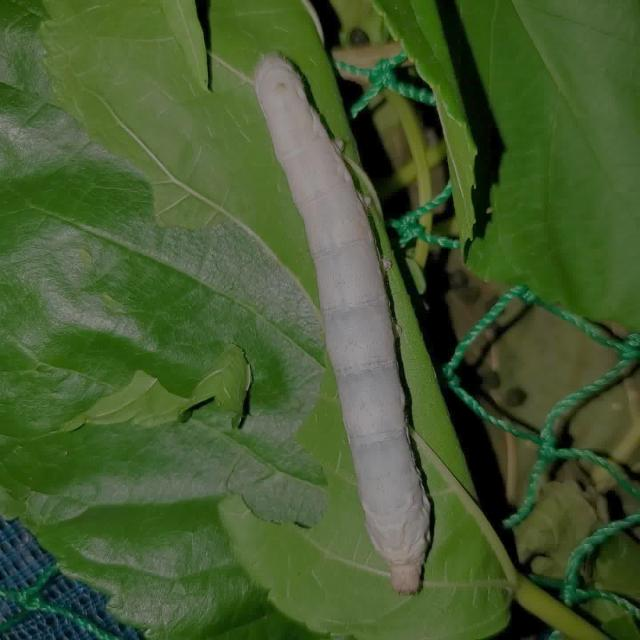Healthy: (212, 19, 489, 606)
